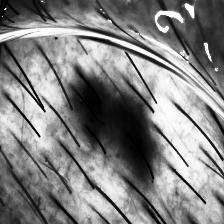Benign Marking or Mole: (78, 78, 146, 151)
